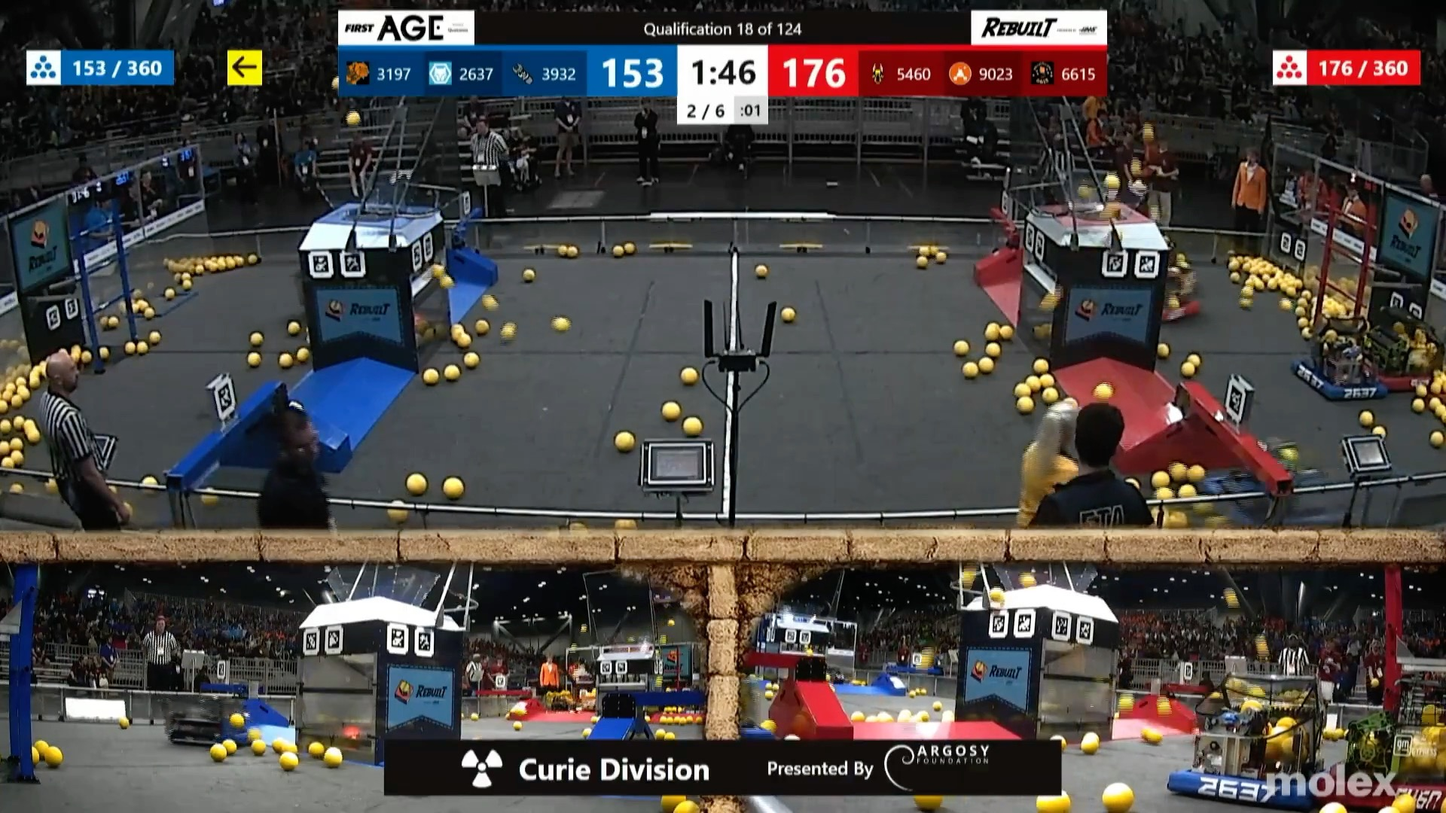bumpers: (1173, 765, 1337, 811), (1280, 355, 1400, 406), (1339, 777, 1446, 813), (1112, 286, 1205, 326), (1363, 355, 1446, 398)
